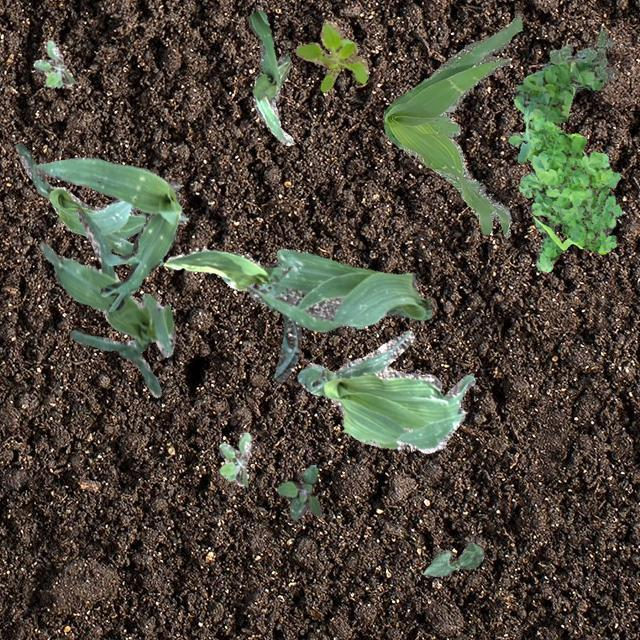crop: (162, 245, 364, 382), (39, 206, 174, 397), (32, 156, 180, 308), (296, 330, 474, 452), (14, 143, 188, 255), (245, 248, 430, 330), (246, 10, 292, 144), (422, 540, 482, 576)
weed: (382, 12, 522, 236), (506, 97, 624, 270), (512, 59, 602, 122), (294, 20, 368, 90), (540, 28, 616, 92), (276, 464, 320, 518), (33, 40, 76, 86), (218, 430, 250, 486)
